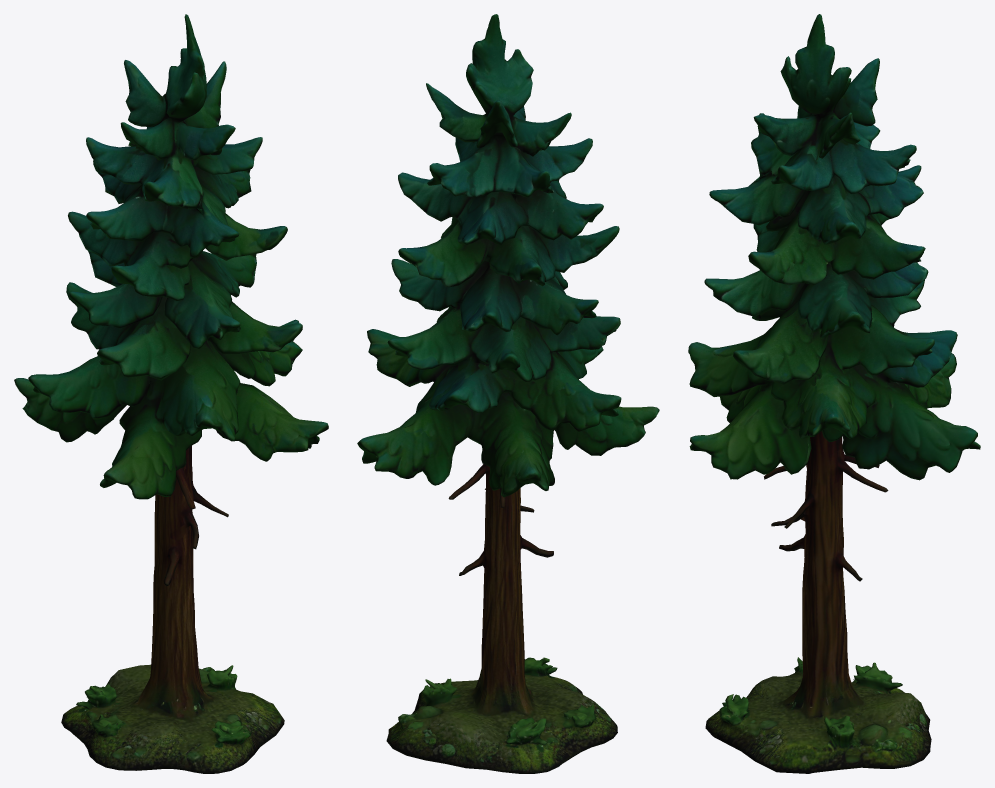
Rendered from woodland_tree_09.glb.
3 renders of one model, left to right at view 1: azimuth 30°, elevation 25°; view 2: azimuth 150°, elevation 25°; view 3: azimuth 270°, elevation 25°, orthographic.
Visible parts, largest first — view 1: tripo_node_4f34bfb5-ffba-486f-aede-82e404b5f5dd; view 2: tripo_node_4f34bfb5-ffba-486f-aede-82e404b5f5dd; view 3: tripo_node_4f34bfb5-ffba-486f-aede-82e404b5f5dd.
Part boxes in pixels (box(x1,y1,x2,y2)): tripo_node_4f34bfb5-ffba-486f-aede-82e404b5f5dd: box(14, 14, 328, 773); tripo_node_4f34bfb5-ffba-486f-aede-82e404b5f5dd: box(357, 14, 659, 773); tripo_node_4f34bfb5-ffba-486f-aede-82e404b5f5dd: box(688, 14, 980, 773).
Bounding box in the file's own units: 0.3823 × 0.9973 × 0.3671.
Materials: 1 (1 with a texture image).
